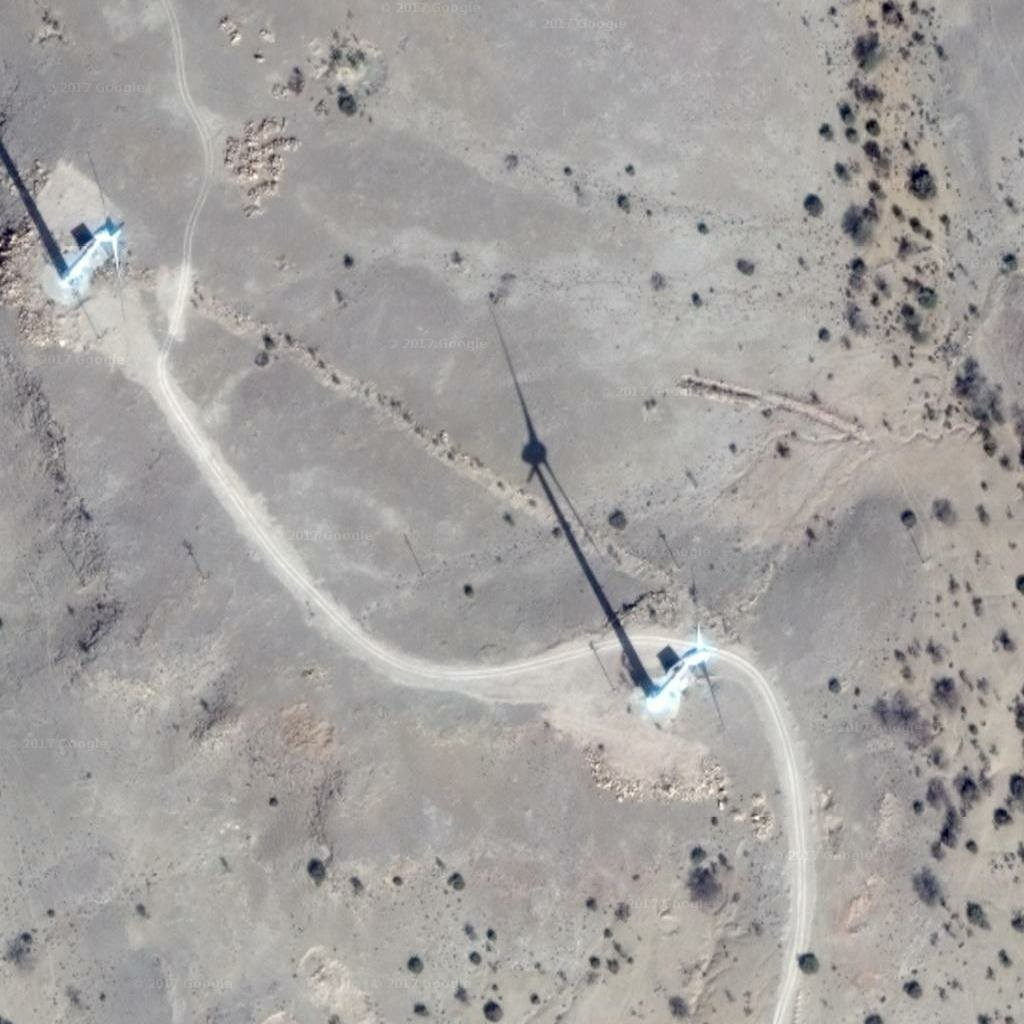Windmill: (488, 311, 659, 695)
